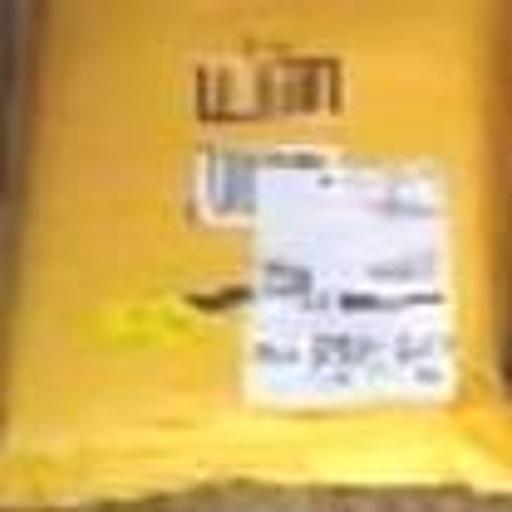Other: (14, 5, 512, 500)
